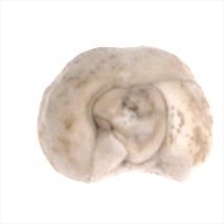L3: (80, 77, 170, 167)
L4: (38, 47, 214, 184)
